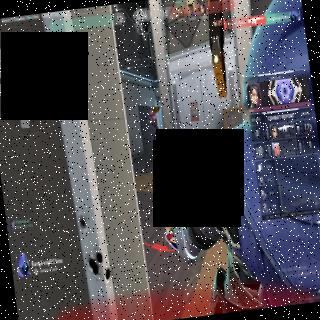ENEMY-BODY: (148, 106, 163, 155)
ENEMY-HEAD: (150, 108, 154, 115)
